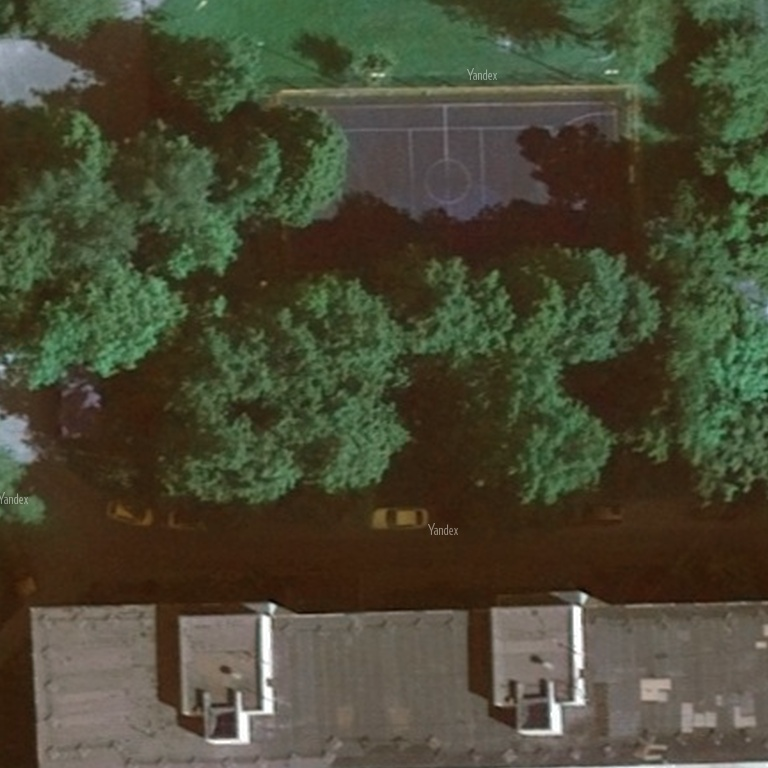basket_court: (258, 78, 657, 298)
